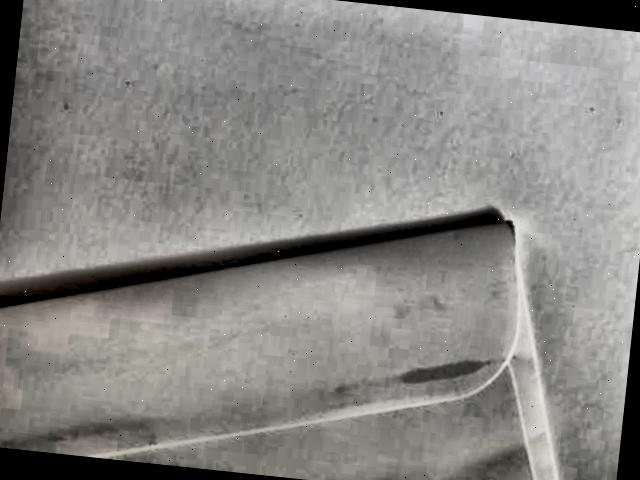Paper: (0, 168, 602, 480)
